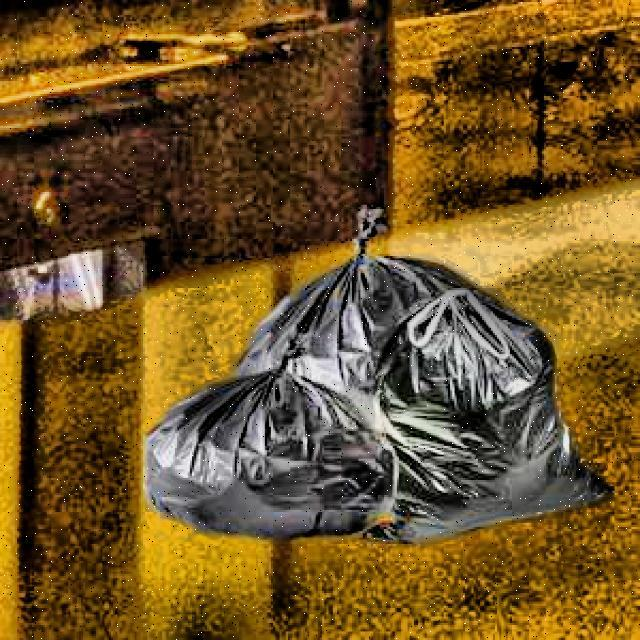Trashbag: (139, 364, 400, 544), (384, 304, 568, 534)
